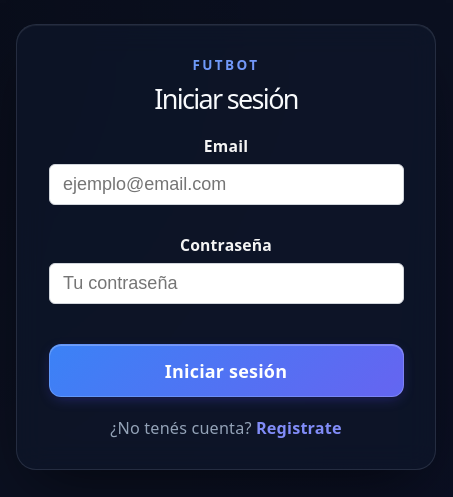
it: LoginPage › Validaciones del frontend › Al corregir el campo email, su mensaje de error desaparece
Click the button "Iniciar sesión": (226, 371) x1=48 y1=344 x2=404 y2=397
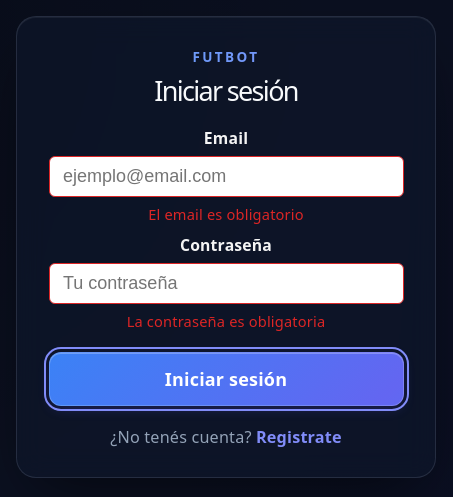
Expected: the text "El email es obligatorio" is shown, x1=148 y1=204 x2=304 y2=224
In the field with id "email": (226, 176) x1=48 y1=156 x2=404 y2=197, type "a"
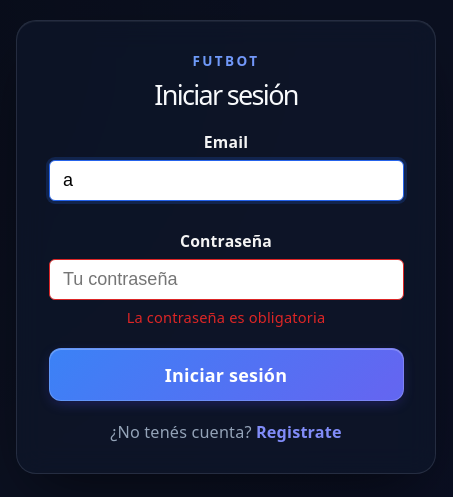
Expected: the text "El email es obligatorio" is gone
